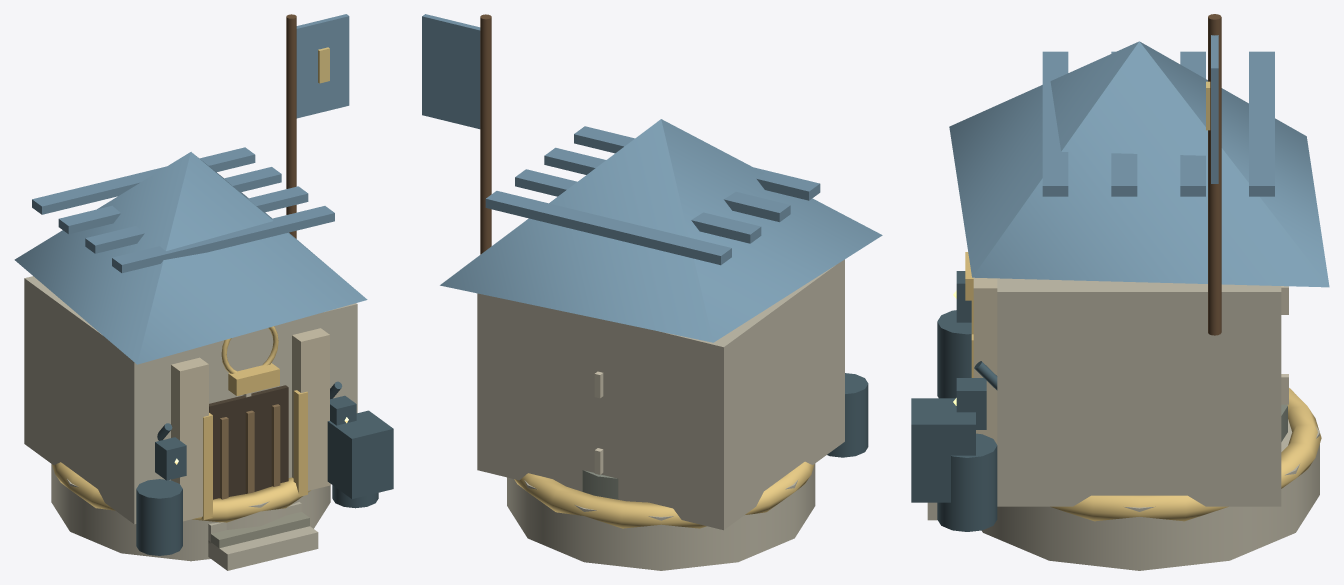
Rendered from tower-barracks-1-base.glb.
The picture shows the model from 3 angles, left to right: view 1: azimuth 30°, elevation 25°; view 2: azimuth 150°, elevation 25°; view 3: azimuth 270°, elevation 25°; orthographic projection. The views are drawn at different scales.
Parts seen in each view (by area): view 1: Foundation, barracks-L1-base; view 2: Foundation, barracks-L1-base; view 3: Foundation, barracks-L1-base.
Part boxes in pixels (x1=…): Foundation: x1=14, y1=14, x2=393, y2=570; barracks-L1-base: x1=51, y1=464, x2=330, y2=561; Foundation: x1=422, y1=14, x2=882, y2=530; barracks-L1-base: x1=507, y1=463, x2=815, y2=570; Foundation: x1=911, y1=14, x2=1329, y2=531; barracks-L1-base: x1=981, y1=404, x2=1319, y2=570.
Bounding box in the file's own units: 2.18 × 2.87 × 1.94.
